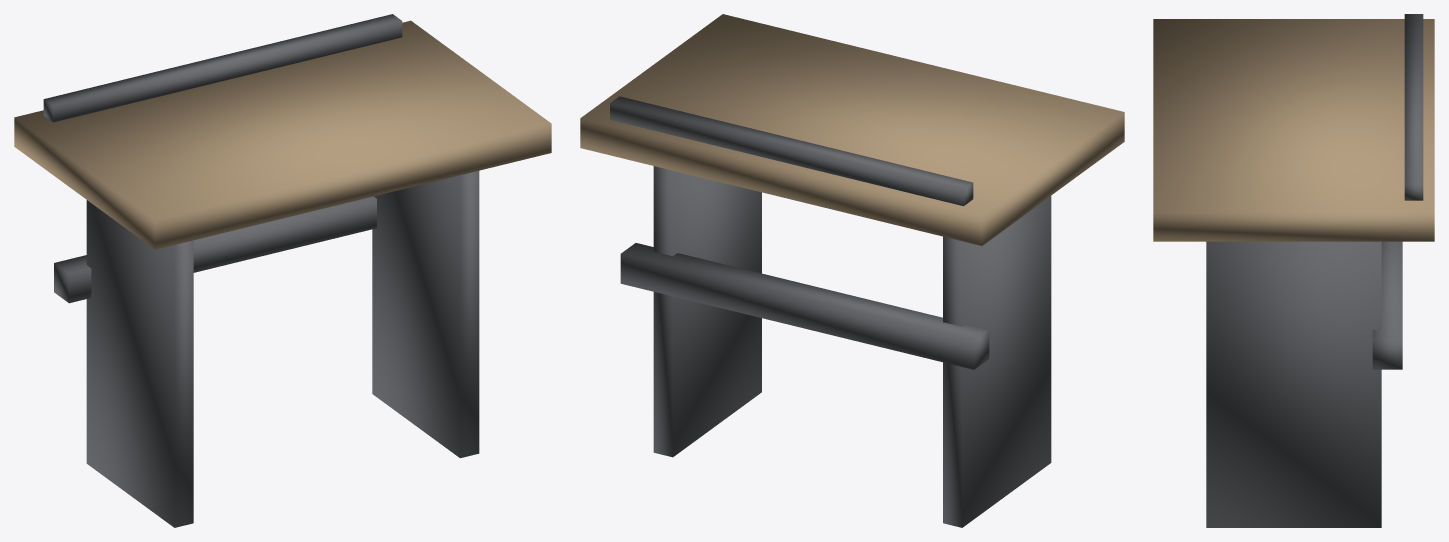
Rendered from drafting_table__compact.glb.
3 renders of one model, left to right at view 1: azimuth 30°, elevation 25°; view 2: azimuth 150°, elevation 25°; view 3: azimuth 270°, elevation 25°, orthographic.
Parts seen in each view (by area): view 1: world; view 2: world; view 3: world.
Boxes of the visible parts, x1,y1,x2,y2 form: world: (14,14,551,527); world: (580,14,1124,527); world: (1153,14,1434,527).
Size of the model in its own units: 1.05 by 0.8974 by 0.645.
